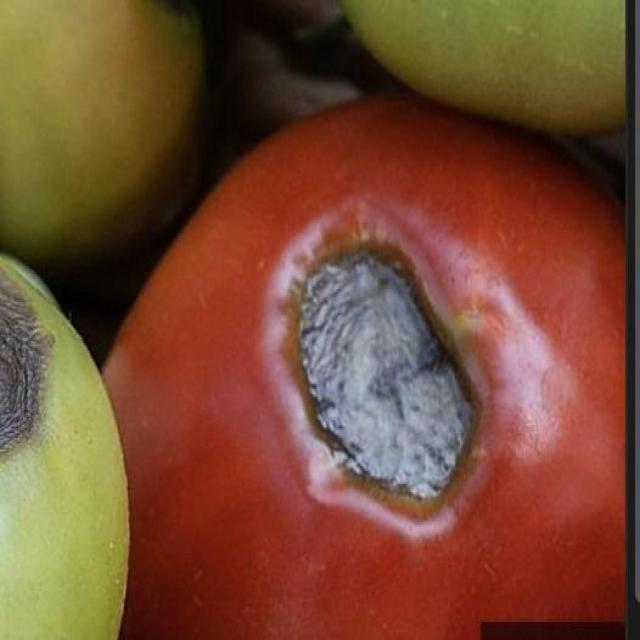Blossom End Rot Fruit: (180, 133, 324, 357)
